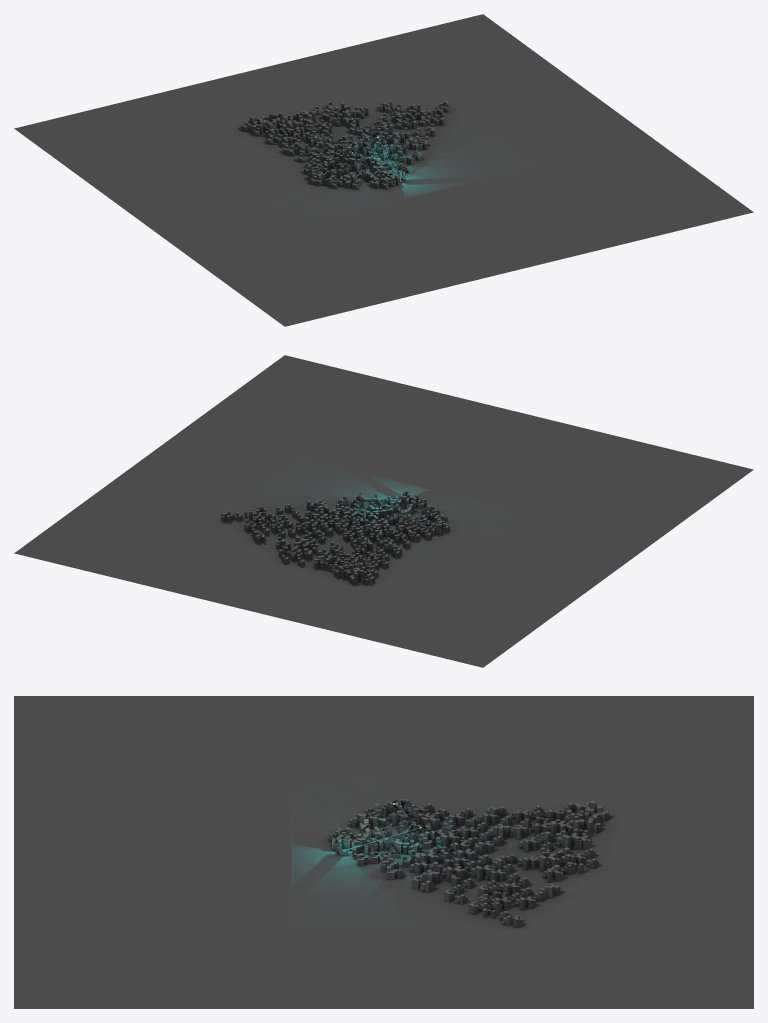
Rendered from war-of-worlds-a-low.glb.
3 renders of one model, top to bottom at view 1: azimuth 30°, elevation 25°; view 2: azimuth 150°, elevation 25°; view 3: azimuth 270°, elevation 25°, orthographic. The views are drawn at different scales.
Parts seen in each view (by area): view 1: Plane.001, Plane, Plane.002, Cube.647, Cube.035, Cube.760, Cube.569; view 2: Plane.001, Plane, Plane.002, Cube.647, Cube.569, Cube.035, Cube.760; view 3: Plane.001, Plane, Plane.002, Cube.647, Cube.035, Cube.569, Cube.760.
Part boxes in pixels (box(x1,y1,x2,y2)): Plane.001: box(14, 14, 753, 326); Plane: box(165, 67, 534, 223); Plane.002: box(292, 131, 475, 209); Cube.647: box(241, 101, 364, 154); Cube.035: box(337, 135, 427, 189); Cube.760: box(287, 137, 367, 189); Cube.569: box(356, 100, 449, 146); Plane.001: box(14, 355, 753, 667); Plane: box(165, 458, 534, 614); Plane.002: box(292, 472, 475, 550); Cube.647: box(276, 532, 399, 584); Cube.569: box(221, 500, 343, 543); Cube.035: box(314, 490, 426, 538); Cube.760: box(361, 505, 449, 554); Plane.001: box(14, 696, 753, 1008); Plane: box(291, 774, 661, 930); Plane.002: box(291, 813, 476, 891); Cube.647: box(484, 801, 608, 881); Cube.035: box(327, 827, 487, 889); Cube.569: box(419, 851, 560, 928); Cube.760: box(347, 799, 502, 846).
Size of the model in its own units: 78.11 by 5.13 by 78.11.
Materials: 18 (16 with a texture image).
